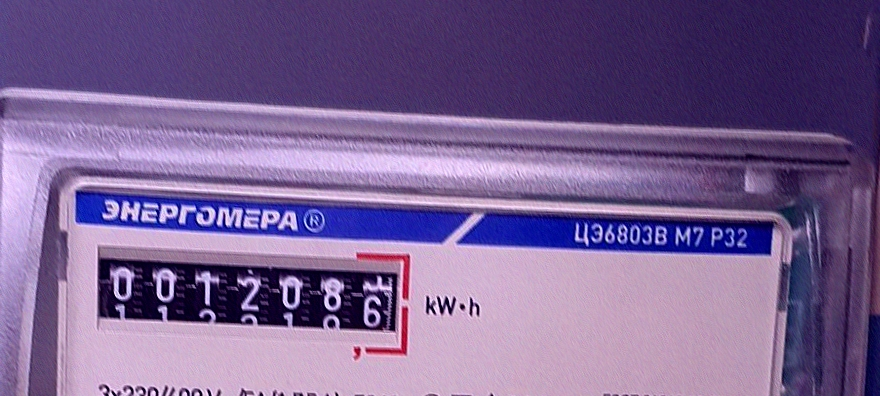0: (109, 261, 136, 301), (153, 265, 178, 302), (278, 272, 303, 308)
1: (195, 267, 217, 306)
2: (237, 273, 264, 311)
6: (359, 291, 383, 328)
8: (319, 274, 345, 312)
screen: (88, 237, 419, 359)
